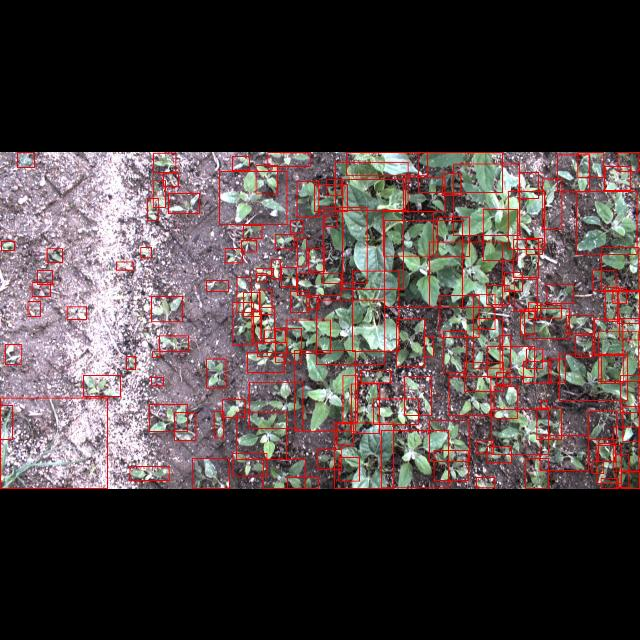crop: (342, 178, 403, 288), (334, 422, 394, 488), (353, 270, 399, 352), (336, 161, 408, 209), (347, 151, 428, 175)
weed: (1, 398, 108, 488), (383, 220, 462, 306), (294, 350, 356, 430), (430, 241, 502, 307), (454, 163, 520, 235), (316, 298, 384, 364), (576, 190, 638, 253), (382, 430, 448, 488), (219, 170, 287, 223), (418, 151, 502, 191), (323, 207, 367, 283), (559, 354, 627, 401), (249, 382, 303, 428), (492, 410, 548, 454), (383, 210, 433, 256), (236, 412, 286, 458), (508, 191, 544, 249), (599, 331, 639, 381), (482, 208, 518, 260), (429, 420, 469, 462), (449, 375, 491, 415), (602, 246, 638, 292), (439, 295, 478, 337), (540, 436, 588, 470), (473, 318, 503, 368), (287, 319, 331, 353), (351, 383, 379, 433), (488, 346, 534, 376), (524, 308, 570, 338), (405, 177, 445, 211), (396, 318, 424, 366), (438, 216, 470, 256), (263, 459, 305, 489), (464, 361, 504, 391), (557, 154, 589, 190), (374, 398, 418, 424), (192, 458, 230, 488), (594, 318, 624, 354), (150, 404, 188, 432), (404, 376, 432, 414), (614, 427, 638, 471), (434, 450, 468, 480), (542, 178, 562, 228), (596, 445, 622, 483), (297, 273, 341, 295), (232, 302, 254, 344), (314, 183, 348, 210), (514, 239, 538, 277), (444, 331, 466, 372), (275, 328, 301, 362), (588, 410, 616, 440), (536, 407, 562, 439), (233, 452, 267, 476), (84, 374, 120, 396), (297, 180, 319, 216), (152, 295, 182, 321), (494, 386, 518, 418), (514, 278, 538, 310), (620, 374, 640, 412), (473, 294, 495, 328), (342, 376, 358, 422), (248, 352, 284, 372), (617, 290, 639, 322), (526, 458, 548, 488), (168, 192, 200, 212), (256, 164, 278, 193), (602, 353, 624, 382), (578, 152, 604, 176), (604, 165, 630, 189), (174, 412, 196, 440), (523, 361, 551, 383), (206, 358, 226, 388), (268, 151, 310, 165), (236, 276, 252, 312), (566, 314, 594, 334), (546, 283, 574, 303), (623, 406, 639, 440), (130, 466, 168, 480), (519, 172, 539, 198), (317, 449, 341, 469), (592, 270, 616, 290), (339, 457, 359, 481), (605, 287, 619, 321), (160, 335, 188, 351), (260, 306, 274, 338), (154, 152, 176, 172), (290, 290, 310, 312), (442, 172, 462, 194), (487, 284, 509, 304), (0, 404, 12, 440), (548, 358, 566, 382), (257, 342, 287, 356), (619, 318, 639, 339), (222, 399, 245, 417), (616, 454, 628, 488), (618, 151, 638, 171), (309, 247, 325, 271), (244, 292, 260, 316), (487, 446, 511, 462), (535, 304, 561, 318), (361, 370, 391, 382), (598, 442, 616, 462), (500, 334, 510, 370), (337, 423, 353, 445), (576, 335, 592, 357), (258, 290, 272, 314), (520, 310, 534, 334), (153, 180, 165, 207), (504, 272, 522, 290), (5, 344, 21, 364), (252, 310, 262, 342), (526, 348, 542, 368), (620, 472, 640, 488), (288, 478, 318, 488), (67, 306, 87, 320), (214, 410, 224, 438), (274, 234, 294, 248), (297, 237, 307, 265), (282, 266, 296, 286), (526, 237, 542, 253), (326, 178, 342, 194), (32, 282, 50, 296), (232, 155, 250, 169), (476, 440, 494, 454), (265, 330, 285, 342), (225, 248, 242, 262), (244, 225, 262, 238), (18, 152, 34, 166), (148, 198, 158, 220), (206, 280, 228, 290), (424, 336, 434, 356), (48, 248, 62, 262), (38, 270, 52, 284), (164, 172, 178, 186), (613, 288, 627, 302), (28, 300, 40, 316), (528, 302, 540, 318), (476, 477, 494, 487), (496, 372, 510, 384), (272, 258, 280, 278), (602, 478, 618, 488), (291, 220, 303, 232), (306, 297, 318, 309), (592, 461, 604, 473), (242, 240, 256, 250), (2, 240, 15, 250), (116, 261, 132, 269), (126, 356, 136, 368), (151, 376, 163, 386), (325, 215, 337, 225), (256, 268, 274, 274), (141, 247, 151, 257), (256, 273, 266, 281), (152, 351, 160, 357), (541, 400, 547, 408)
